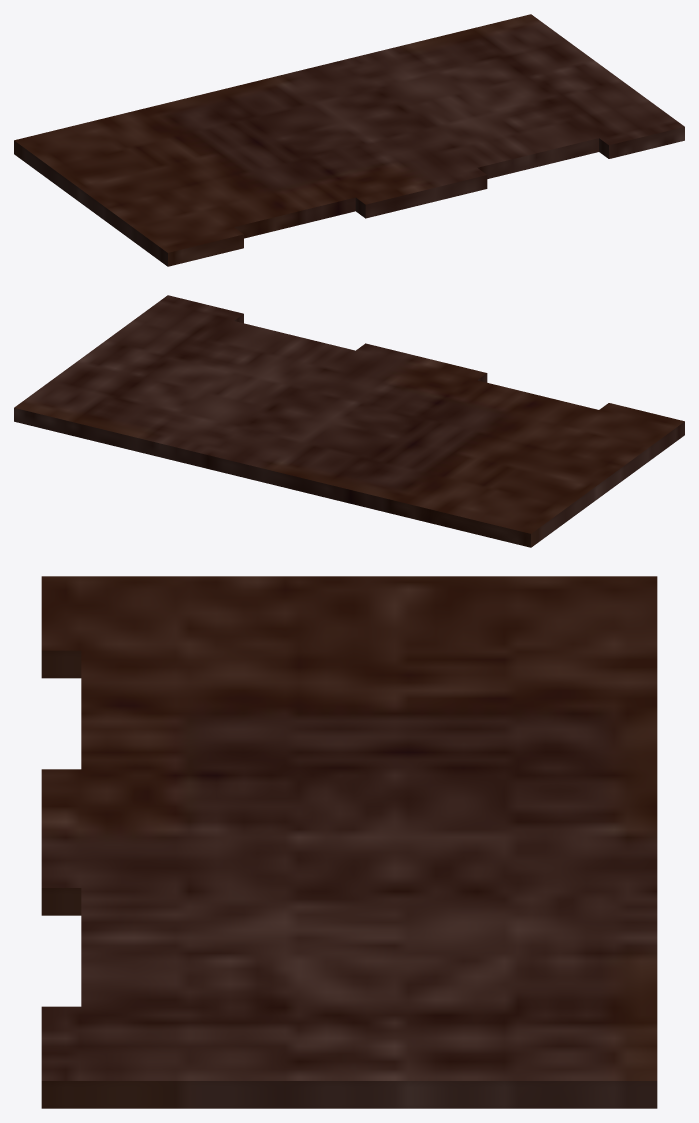
File: original-15.obj
3 views of the same model, one above another, from view 1: azimuth 30°, elevation 25°; view 2: azimuth 150°, elevation 25°; view 3: azimuth 270°, elevation 25° (orthographic). The views are drawn at different scales.
Visible parts, largest first — view 1: #ID102; view 2: #ID102; view 3: #ID102.
Boxes of the visible parts, box(x1,y1,x2,y2) form: #ID102: box(14, 14, 684, 266); #ID102: box(14, 295, 684, 547); #ID102: box(41, 576, 657, 1108).
Size of the model in its own units: 0.1733 by 0.00444 by 0.0893.
